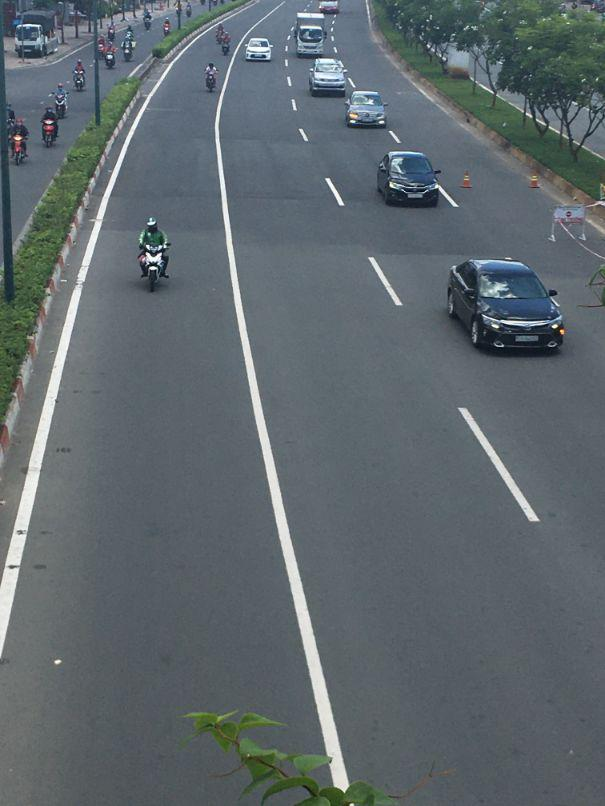car: (445, 255, 569, 355), (378, 151, 440, 209), (346, 91, 386, 130), (309, 57, 346, 97), (246, 39, 272, 64), (318, 1, 339, 15)
motorbike: (137, 242, 171, 289), (11, 136, 30, 166), (43, 115, 59, 146), (72, 61, 85, 91)
truck: (14, 7, 64, 59), (295, 13, 326, 58)
